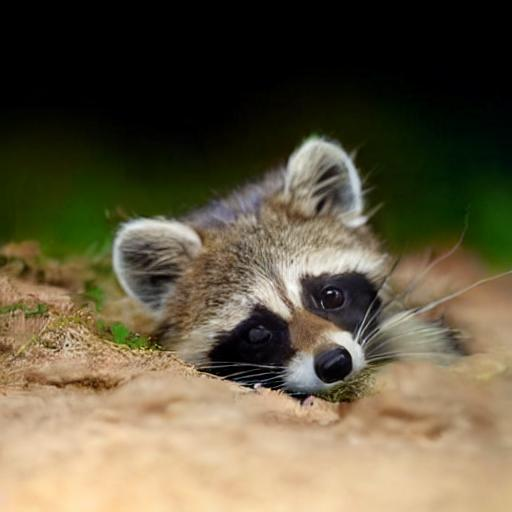raccoon: (106, 122, 429, 412)
